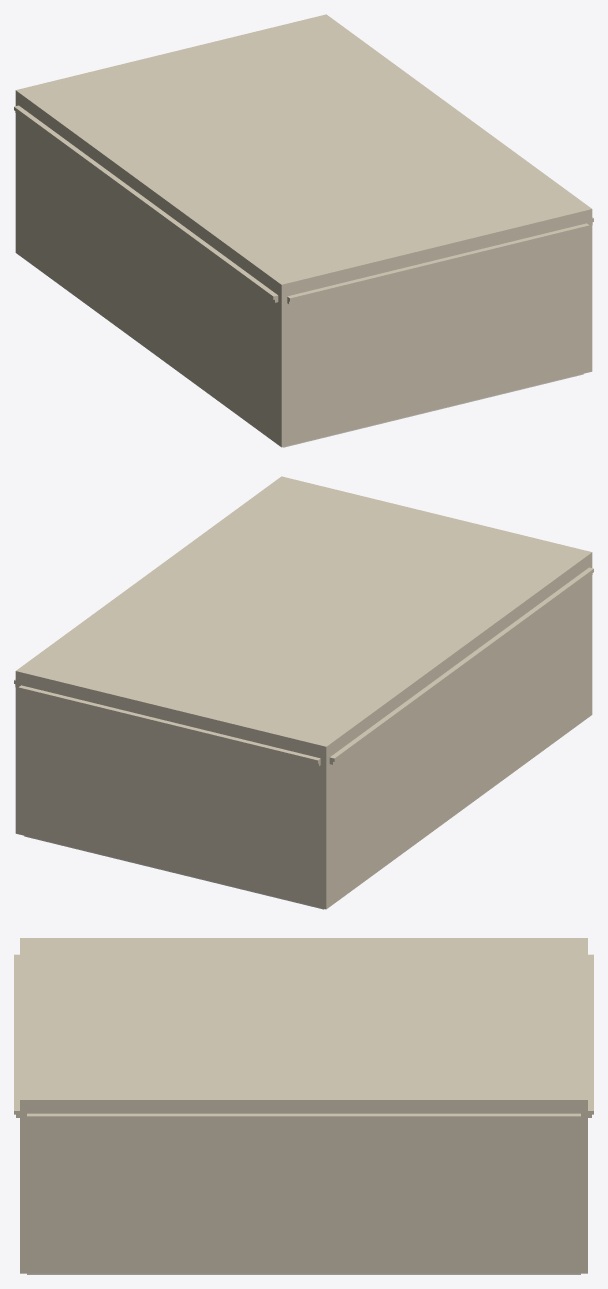
The model's file is hall.glb.
The picture shows the model from 3 angles, top to bottom: view 1: azimuth 30°, elevation 25°; view 2: azimuth 150°, elevation 25°; view 3: azimuth 270°, elevation 25°; orthographic projection. The views are drawn at different scales.
Parts seen in each view (by area): view 1: Ceiling_Slab, Wall_3, Wall_1, Cornice_X-8_7.55, Cornice_Y-12_7.55, Wall_2, Cornice_Y-12_7.38, Cornice_X-8_7.38; view 2: Ceiling_Slab, Wall_4, Wall_1, Cornice_X-8_7.55, Cornice_Y12_7.55, Wall_2, Cornice_Y12_7.38, Cornice_X-8_7.38; view 3: Ceiling_Slab, Wall_2, Cornice_X8_7.55, Cornice_X8_7.38, Floor_MarbleGrid, Cornice_Y-12_7.55, Cornice_Y12_7.55.
Part boxes in pixels (x1,y1,x2,y2): Ceiling_Slab: (15,14,592,290); Wall_3: (287,216,586,445); Wall_1: (15,96,287,447); Cornice_X-8_7.55: (14,105,278,299); Cornice_Y-12_7.55: (287,223,589,301); Wall_2: (586,215,592,372); Cornice_Y-12_7.38: (287,229,588,304); Cornice_X-8_7.38: (15,111,278,302); Ceiling_Slab: (15,476,592,752); Wall_4: (21,678,320,907); Wall_1: (320,558,592,909); Cornice_X-8_7.55: (329,567,593,761); Cornice_Y12_7.55: (18,685,320,763); Wall_2: (15,677,21,834); Cornice_Y12_7.38: (19,691,320,766); Cornice_X-8_7.38: (329,573,592,764); Ceiling_Slab: (20,938,587,1106); Wall_2: (20,1106,587,1273); Cornice_X8_7.55: (27,1113,580,1119); Cornice_X8_7.38: (27,1120,580,1122); Floor_MarbleGrid: (27,1273,580,1274); Cornice_Y-12_7.55: (14,954,19,1114); Cornice_Y12_7.55: (588,954,593,1114).
Size of what is drawn, in the model's own units: 17.12 by 8.5 by 25.12.
